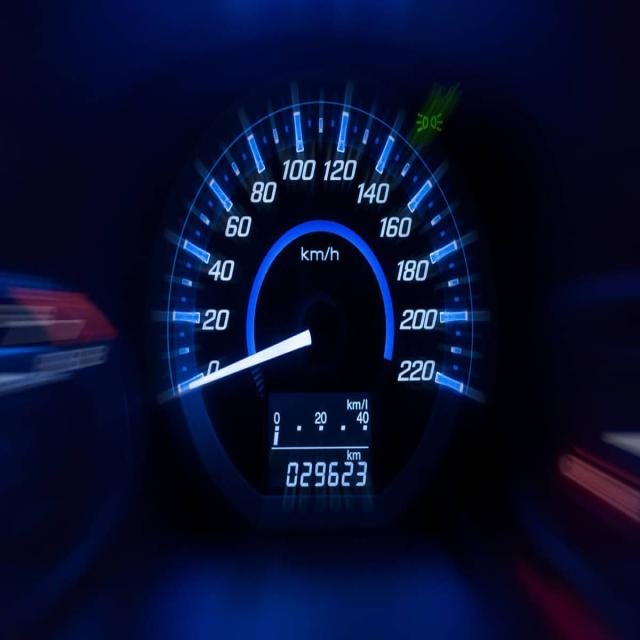odometer: (271, 449, 372, 495)
